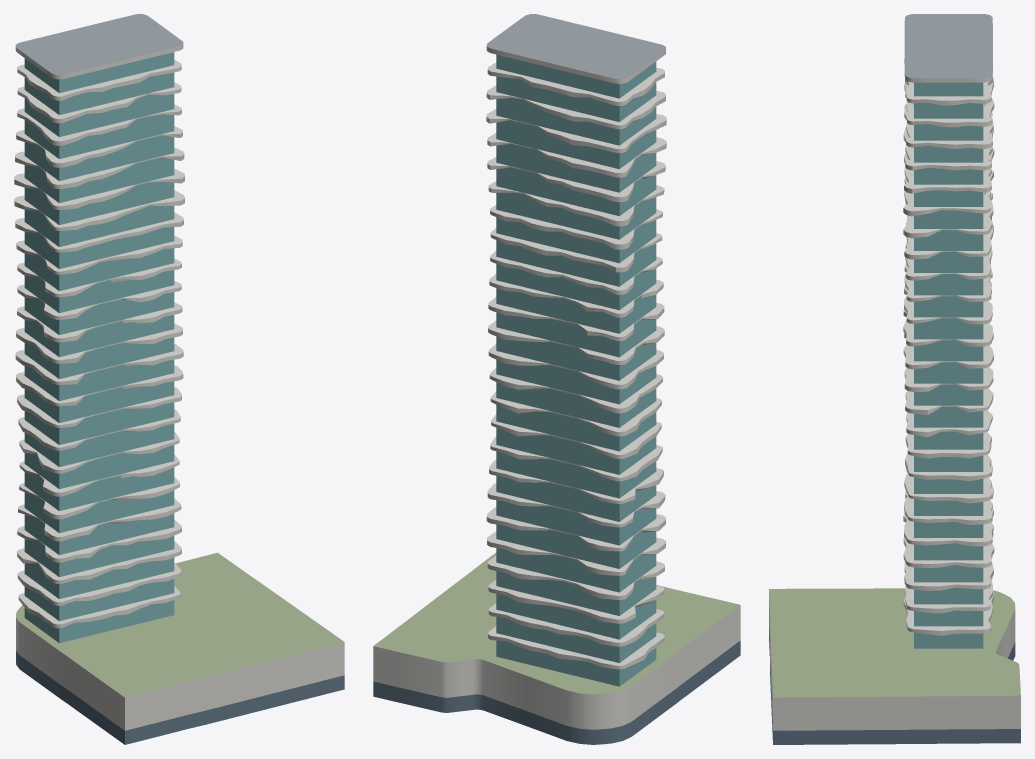
The model's file is detail.glb.
The picture shows the model from 3 angles, left to right: view 1: azimuth 30°, elevation 25°; view 2: azimuth 150°, elevation 25°; view 3: azimuth 270°, elevation 25°; orthographic projection. The views are drawn at different scales.
Parts seen in each view (by area): view 1: aqua-chicago; view 2: aqua-chicago; view 3: aqua-chicago.
Part boxes in pixels (left/top/right/bottom): aqua-chicago: left=14, top=14, right=344, bottom=744; aqua-chicago: left=373, top=14, right=740, bottom=744; aqua-chicago: left=769, top=14, right=1020, bottom=744.
Size of the model in its own units: 99.48 by 262 by 96.2.
